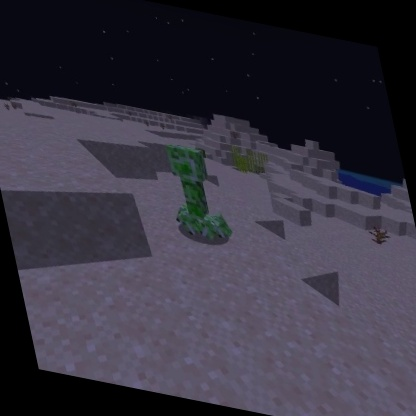creeper: (155, 137, 239, 251)
